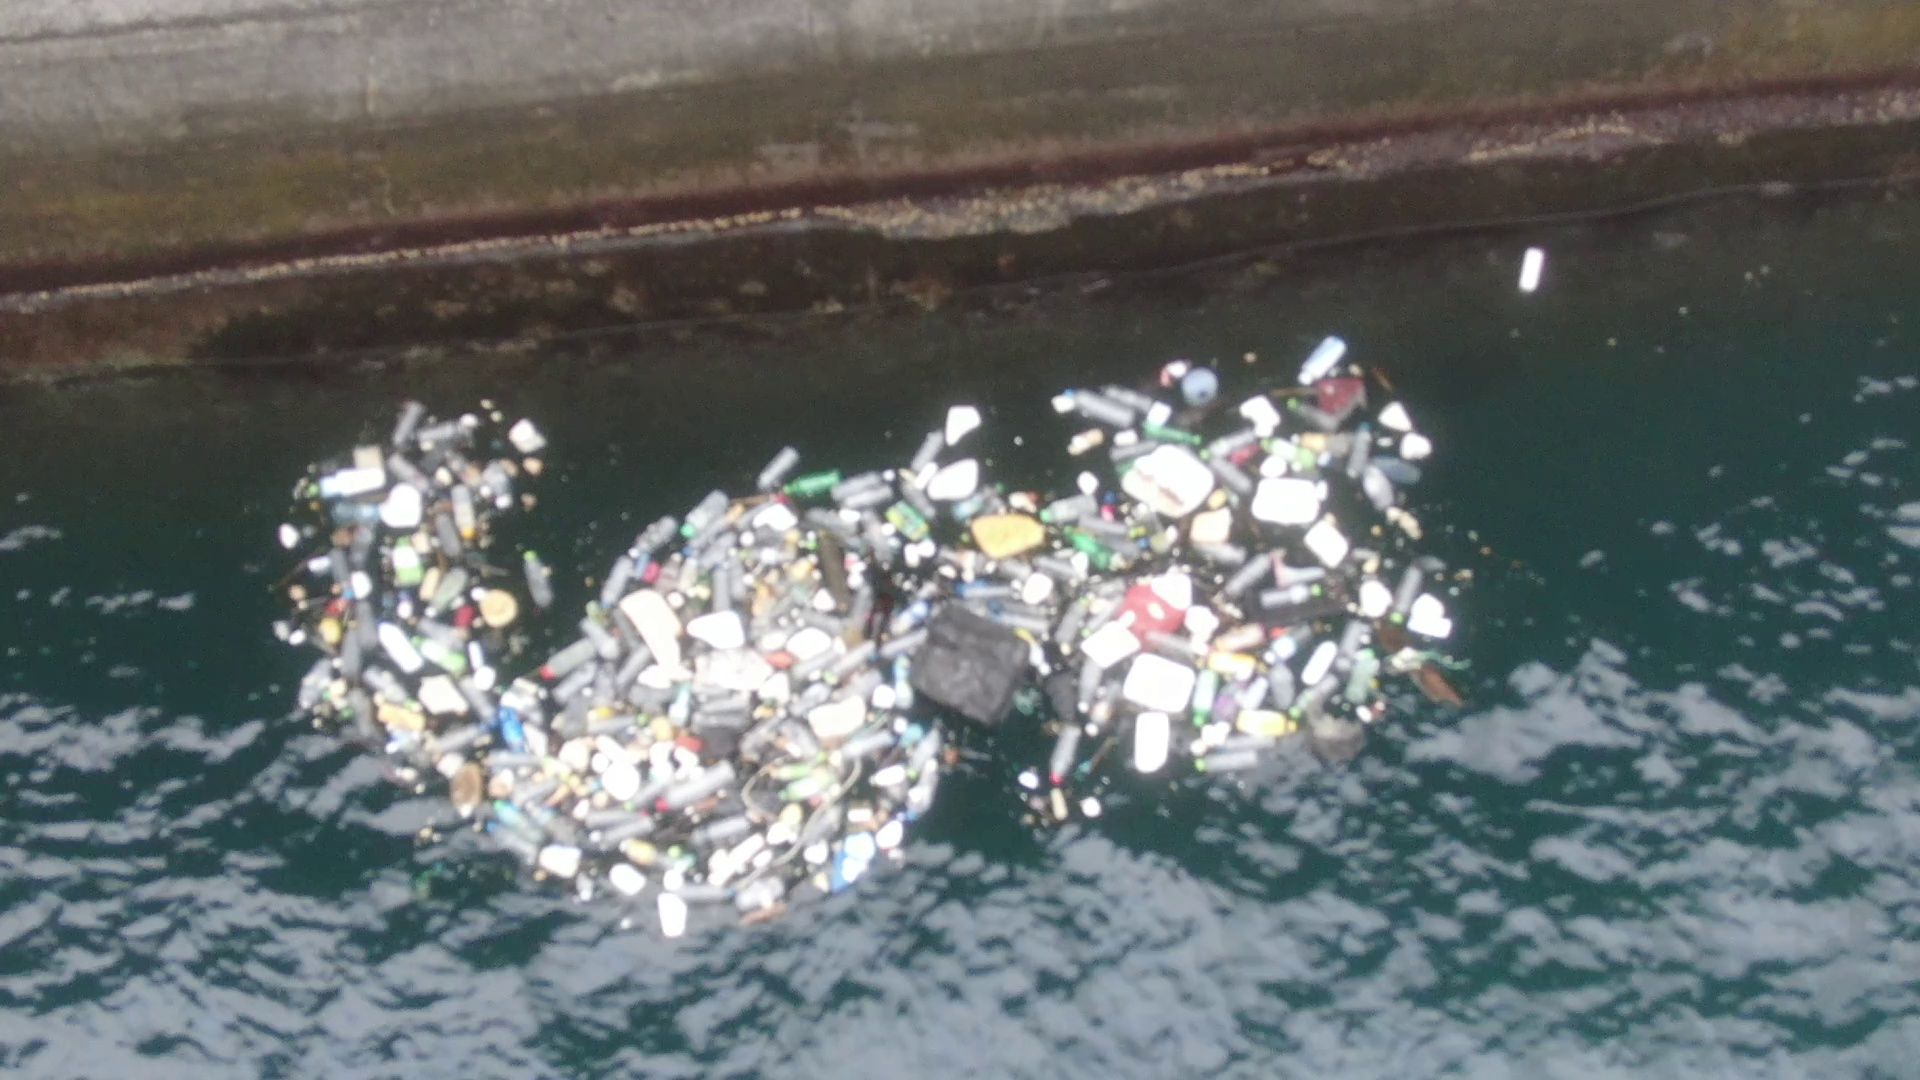bottle: (1505, 233, 1555, 305)
garbage: (272, 338, 1513, 947)
